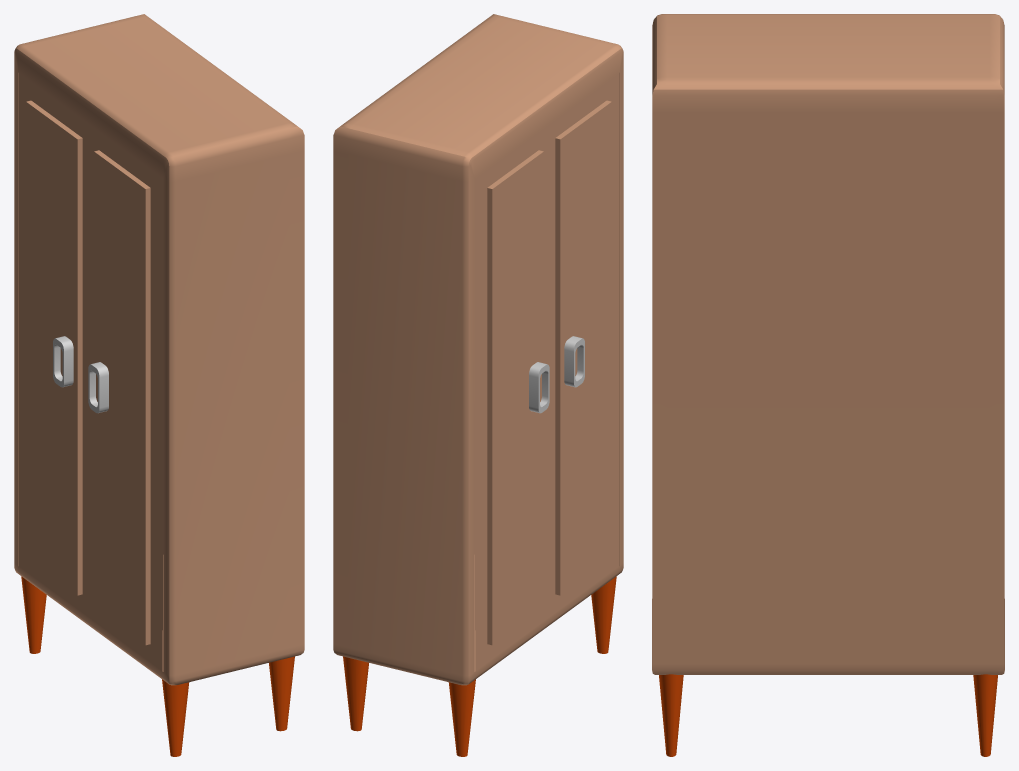
Rendered from Dresser_v1.fbx.
3 renders of one model, left to right at view 1: azimuth 30°, elevation 25°; view 2: azimuth 150°, elevation 25°; view 3: azimuth 270°, elevation 25°, orthographic. The views are drawn at different scales.
Parts seen in each view (by area): view 1: SmallDresser; view 2: SmallDresser; view 3: SmallDresser.
Part boxes in pixels (box(x1,y1,x2,y2)): SmallDresser: box(14, 14, 304, 756); SmallDresser: box(333, 14, 623, 756); SmallDresser: box(652, 14, 1004, 756).
Bounding box in the file's own units: 68.53 × 265 × 125.
